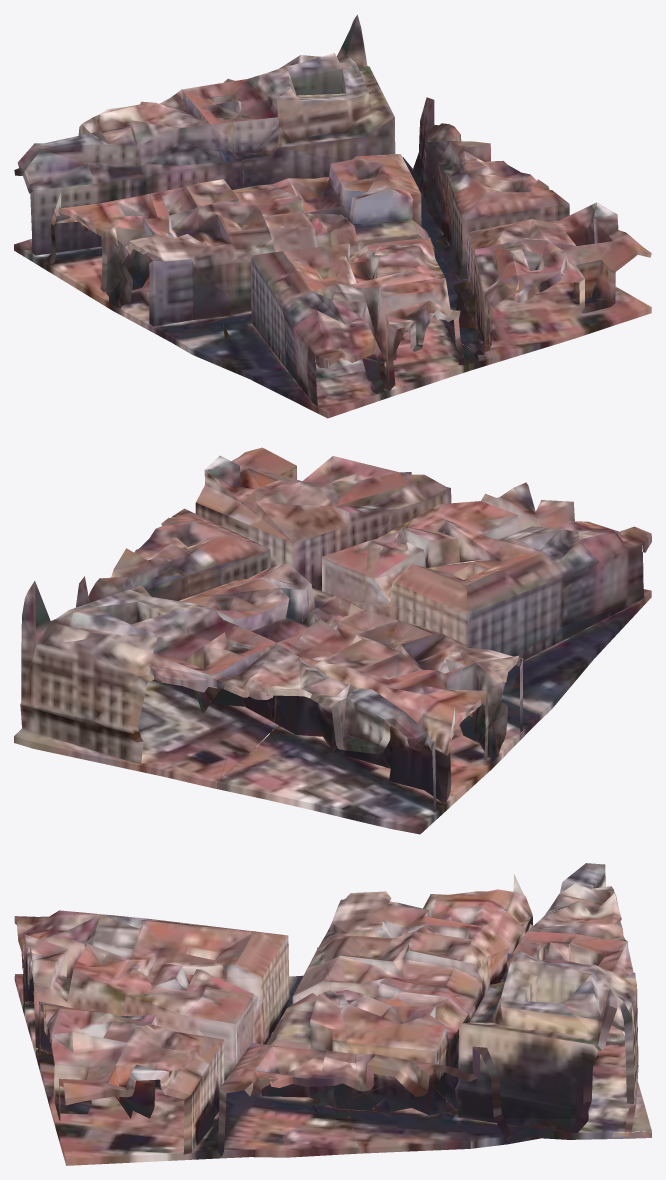
The picture shows the model from 3 angles, top to bottom: view 1: azimuth 30°, elevation 25°; view 2: azimuth 150°, elevation 25°; view 3: azimuth 270°, elevation 25°; orthographic projection. The views are drawn at different scales.
Parts seen in each view (by area): view 1: Mesh_0; view 2: Mesh_0; view 3: Mesh_0.
Boxes of the visible parts, x1,y1,x2,y2 form: Mesh_0: (14, 14, 651, 418); Mesh_0: (14, 447, 651, 834); Mesh_0: (14, 863, 651, 1165).
Size of the model in its own units: 133 by 48.76 by 165.
Materials: 1 (1 with a texture image).
